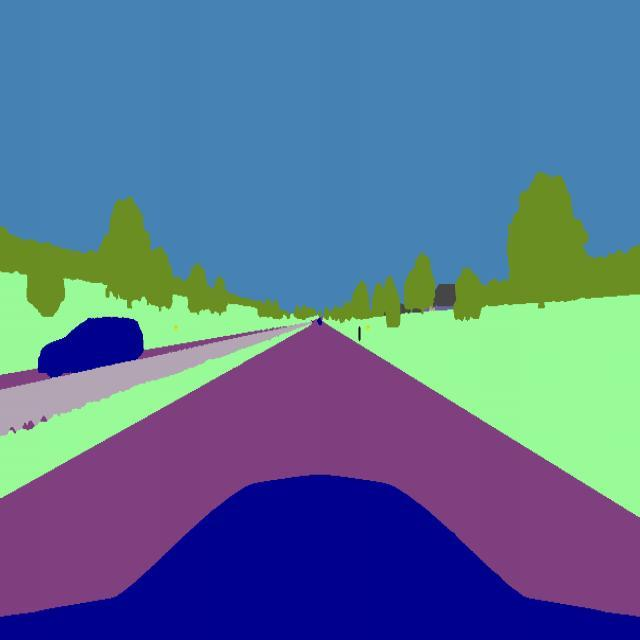safe: (37, 312, 147, 378)
